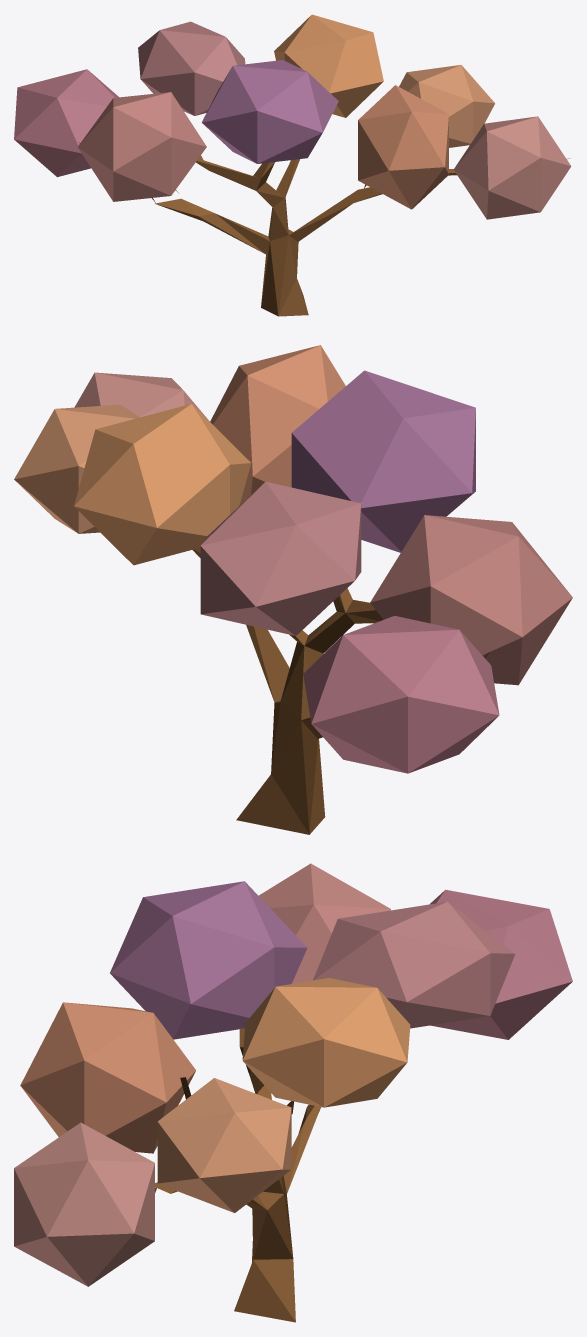
The model's file is jacaranda_2_autumn_far.glb.
The picture shows the model from 3 angles, top to bottom: view 1: azimuth 30°, elevation 25°; view 2: azimuth 150°, elevation 25°; view 3: azimuth 270°, elevation 25°; orthographic projection. The views are drawn at different scales.
Parts seen in each view (by area): view 1: jacaranda_2_autumn_far; view 2: jacaranda_2_autumn_far; view 3: jacaranda_2_autumn_far.
Boxes of the visible parts, left/top/right/bottom form: jacaranda_2_autumn_far: left=14, top=14, right=571, bottom=316; jacaranda_2_autumn_far: left=14, top=345, right=572, bottom=834; jacaranda_2_autumn_far: left=14, top=863, right=572, bottom=1322.
Bounding box in the file's own units: 9.95 × 6.01 × 8.03.
